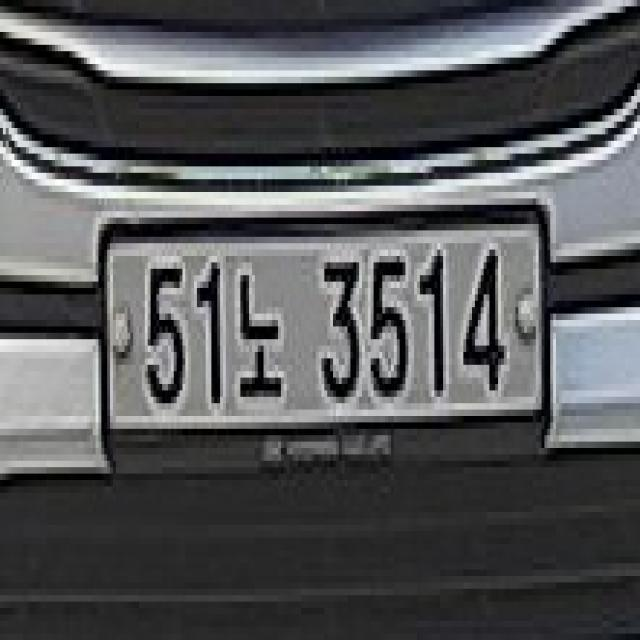1: (194, 253, 228, 413), (420, 243, 452, 400)
3: (316, 248, 367, 406)
4: (462, 246, 513, 401)
5: (144, 257, 186, 412), (371, 254, 412, 406)
license_plate: (80, 202, 558, 456)
no: (238, 250, 282, 416)
